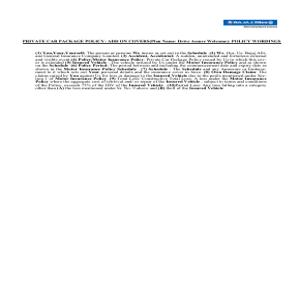text: (21, 38, 287, 95)
